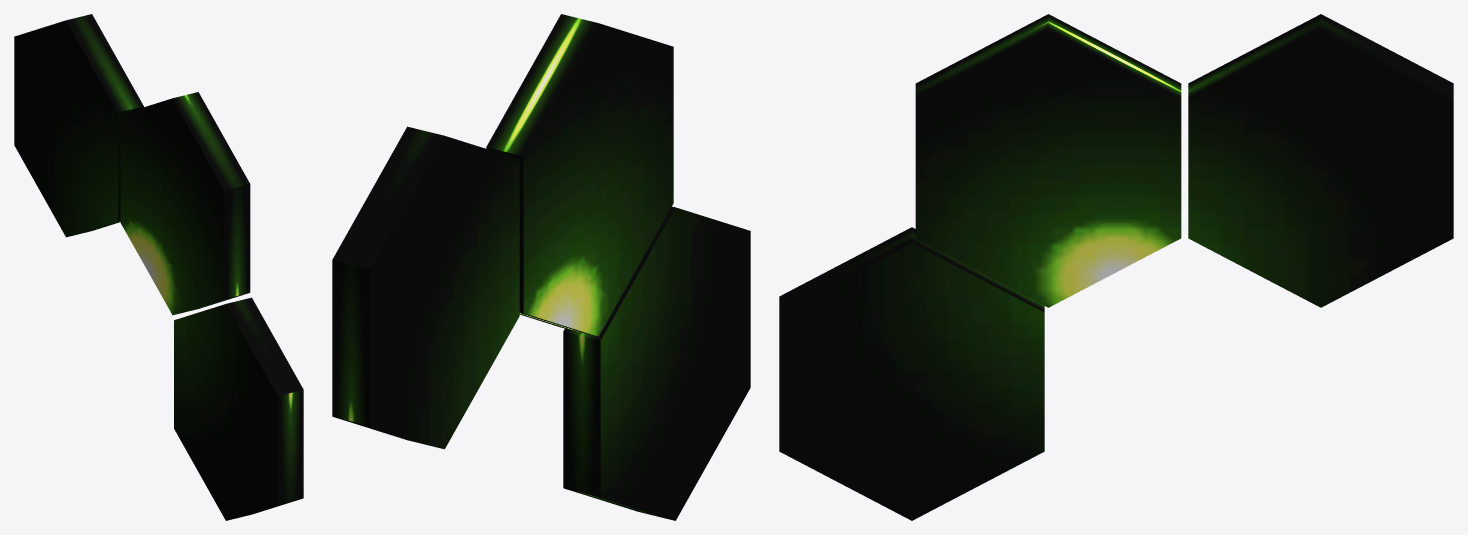
3 views of the same model, side by side, from view 1: azimuth 30°, elevation 25°; view 2: azimuth 150°, elevation 25°; view 3: azimuth 270°, elevation 25° (orthographic). The views are drawn at different scales.
Size of the model in its own units: 0.1252 by 1.77 by 2.2.
Materials: 1 (1 with a texture image).
